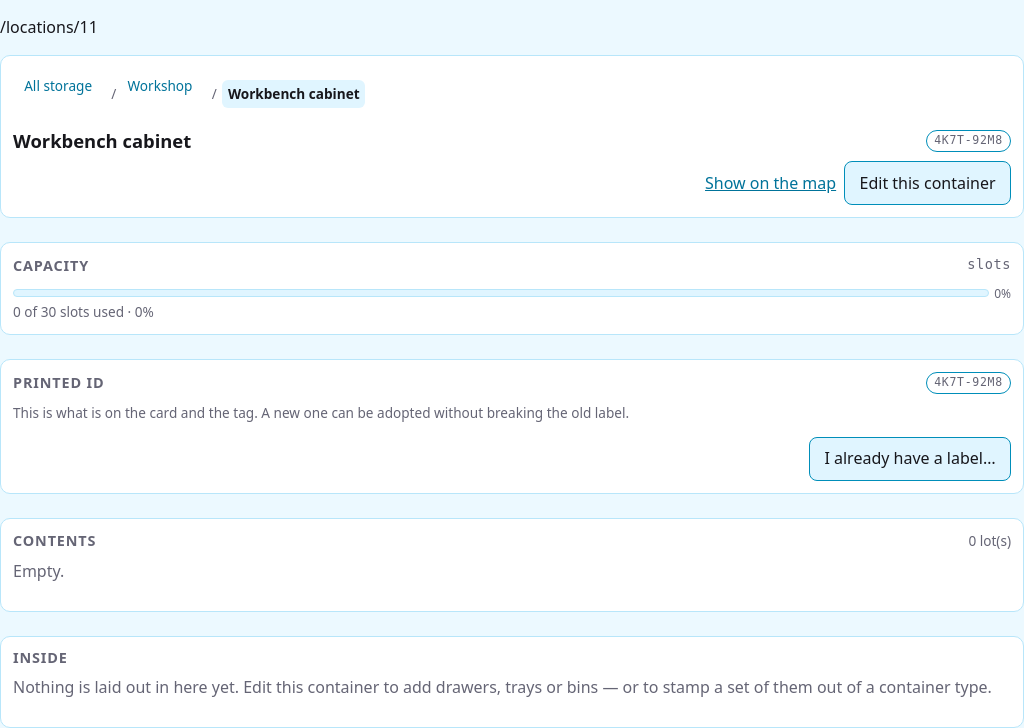
Test case: turns the page into its own editor, and back, without navigating away
The width and height of the screenshot is (1024, 728).
Expected: the text "edit mode" is not shown
Click the button "Edit this container" at x=928, y=184, box 844,162 -> 1011,206
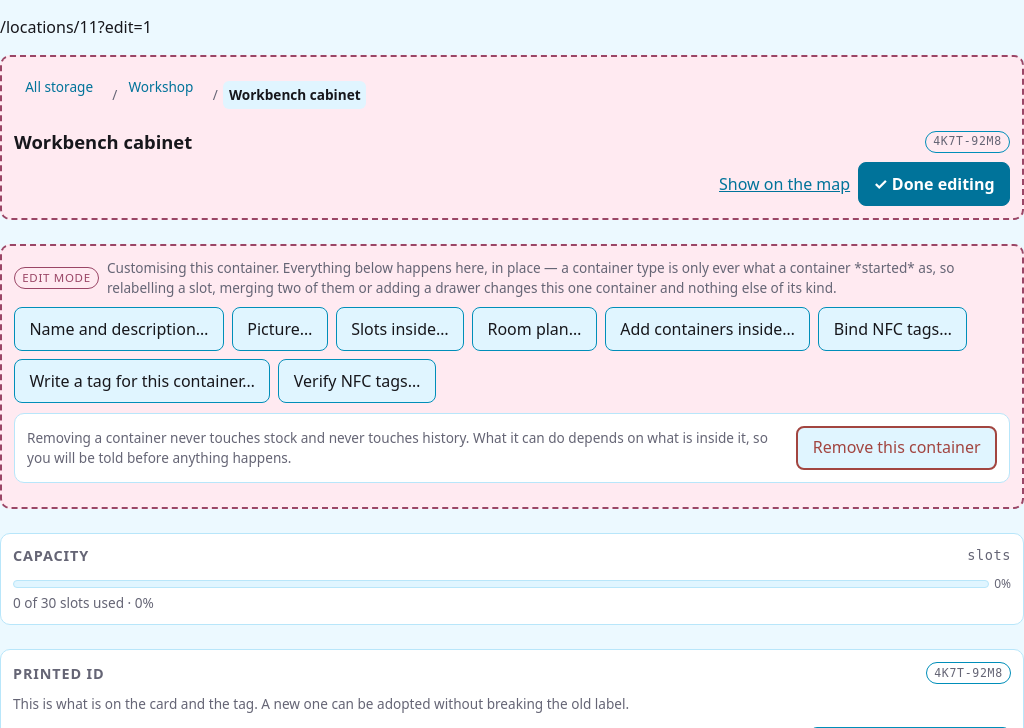
Expected: the text with test id "url" reads "/locations/11?edit=1", 0,16 -> 152,38
Expected: the text "edit mode" is shown, 14,267 -> 99,289
Click the button "Done editing" at x=934, y=184, box 858,162 -> 1010,206
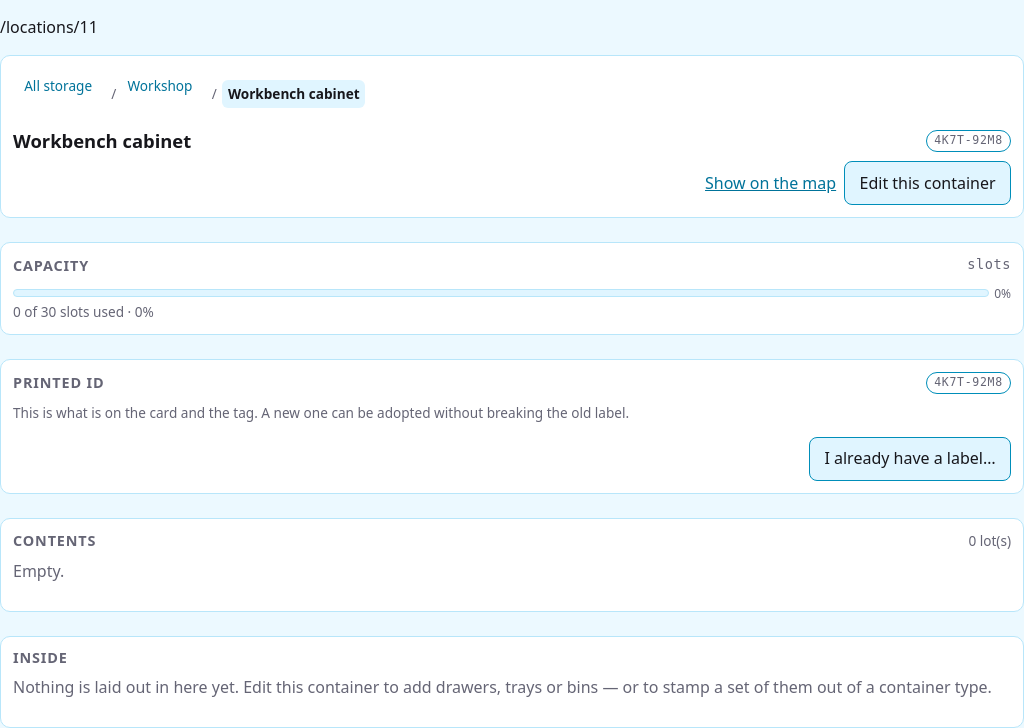
Expected: the text with test id "url" reads "/locations/11", 0,16 -> 98,38
Expected: the text "edit mode" is gone
